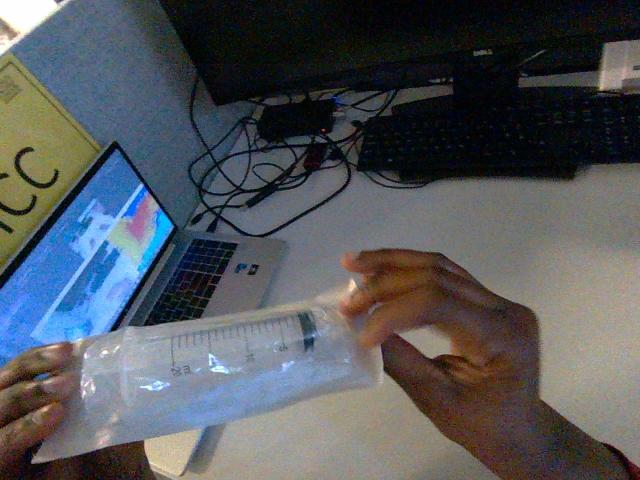syringe: (34, 281, 381, 461)
